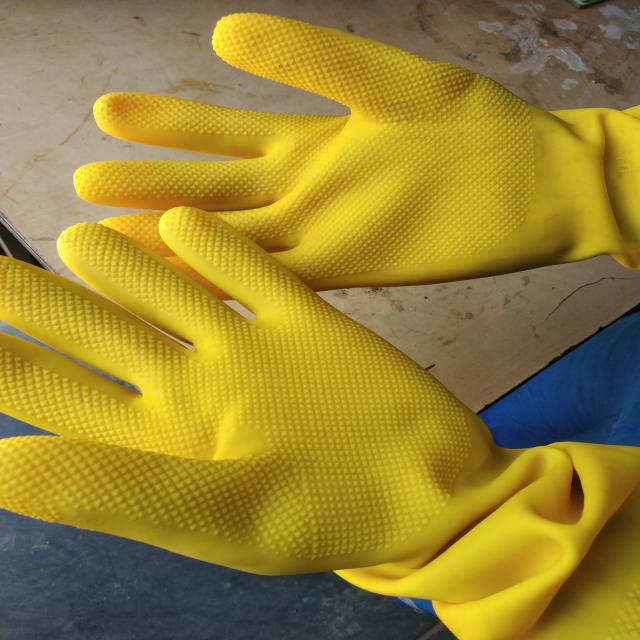Gloves: (4, 205, 640, 640), (71, 12, 640, 296)
